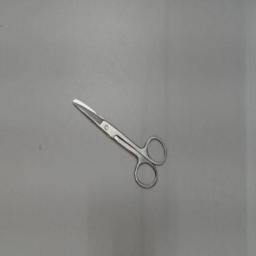Dressing Scissors: (66, 91, 172, 195)
